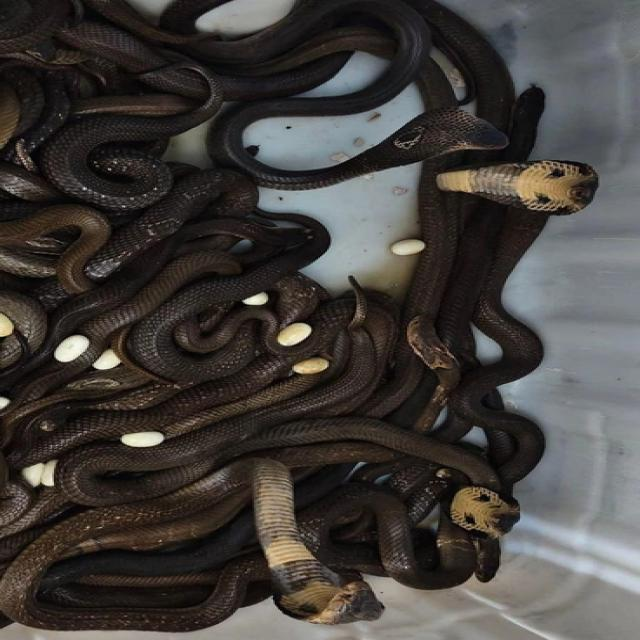Venomous: (258, 558, 397, 630), (517, 153, 625, 229), (393, 102, 510, 162), (449, 480, 532, 543)
